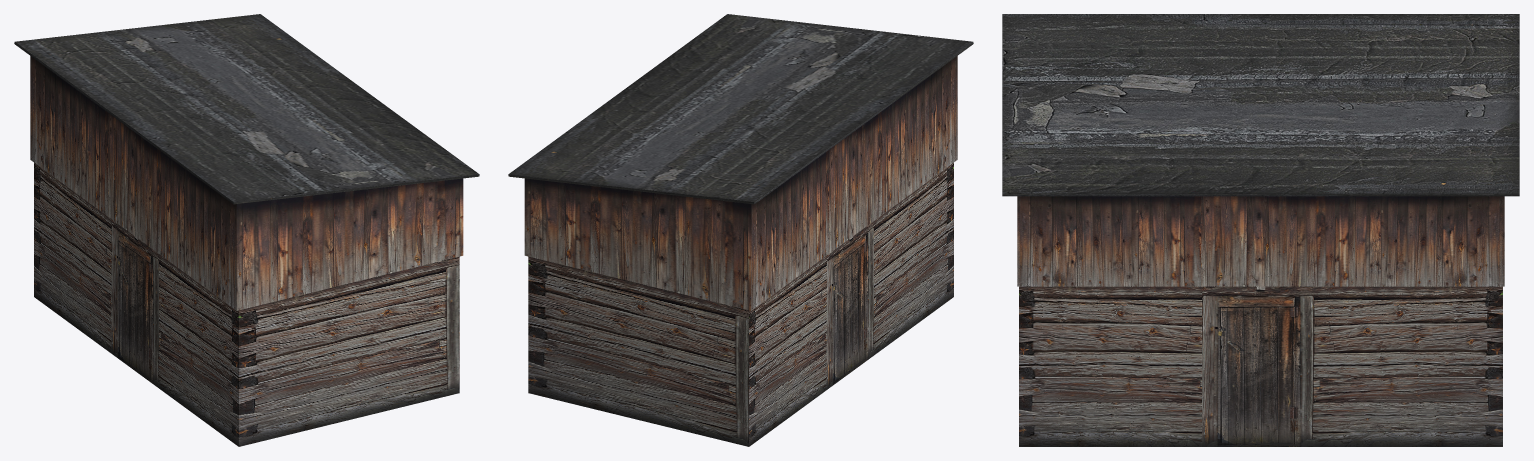
File: RSG.fbx
3 renders of one model, left to right at view 1: azimuth 30°, elevation 25°; view 2: azimuth 150°, elevation 25°; view 3: azimuth 270°, elevation 25°, orthographic. The views are drawn at different scales.
Parts seen in each view (by area): view 1: Box001; view 2: Box001; view 3: Box001.
Part boxes in pixels (x1,y1,x2,y2): Box001: (14,14,479,446); Box001: (508,14,973,446); Box001: (1002,14,1519,446).
Bounding box in the file's own units: 3.63 × 3.56 × 5.59.
1 material, 1 textured.
